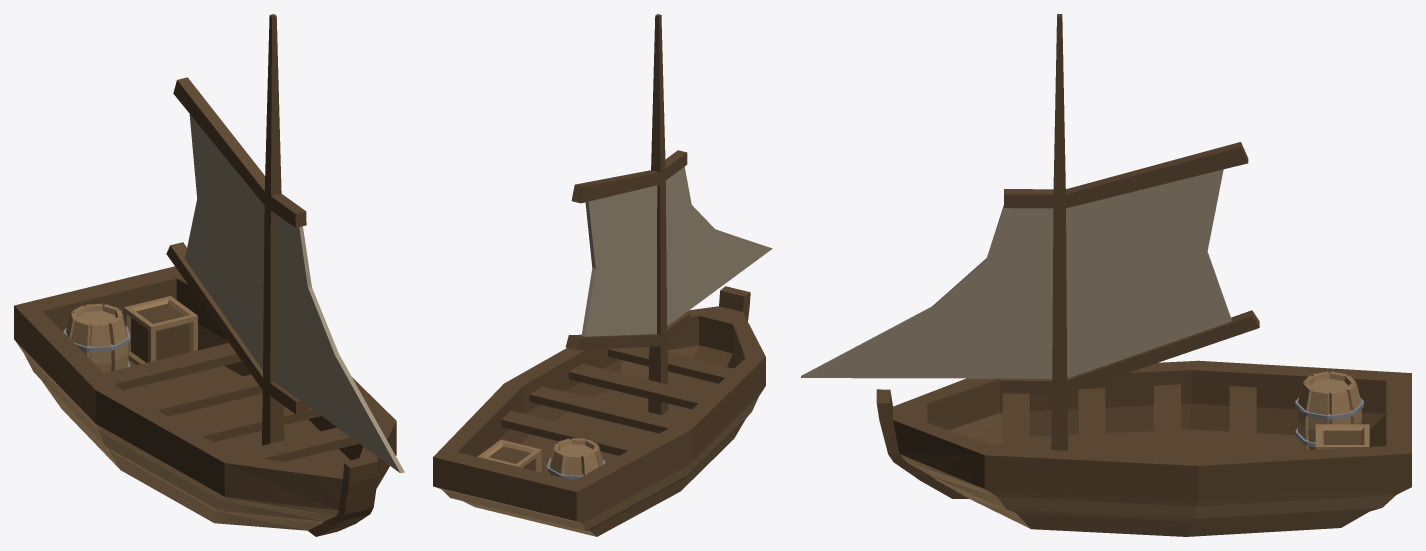
File: cc0-sailboat.glb
The picture shows the model from 3 angles, left to right: view 1: azimuth 30°, elevation 25°; view 2: azimuth 150°, elevation 25°; view 3: azimuth 270°, elevation 25°; orthographic projection. The views are drawn at different scales.
Visible parts, largest first — view 1: cc0-sailboat; view 2: cc0-sailboat; view 3: cc0-sailboat.
Boxes of the visible parts, box(x1,y1,x2,y2) form: cc0-sailboat: box(14, 14, 404, 536); cc0-sailboat: box(433, 14, 772, 536); cc0-sailboat: box(801, 14, 1411, 536).
Size of the model in its own units: 2.45 by 5.19 by 6.
